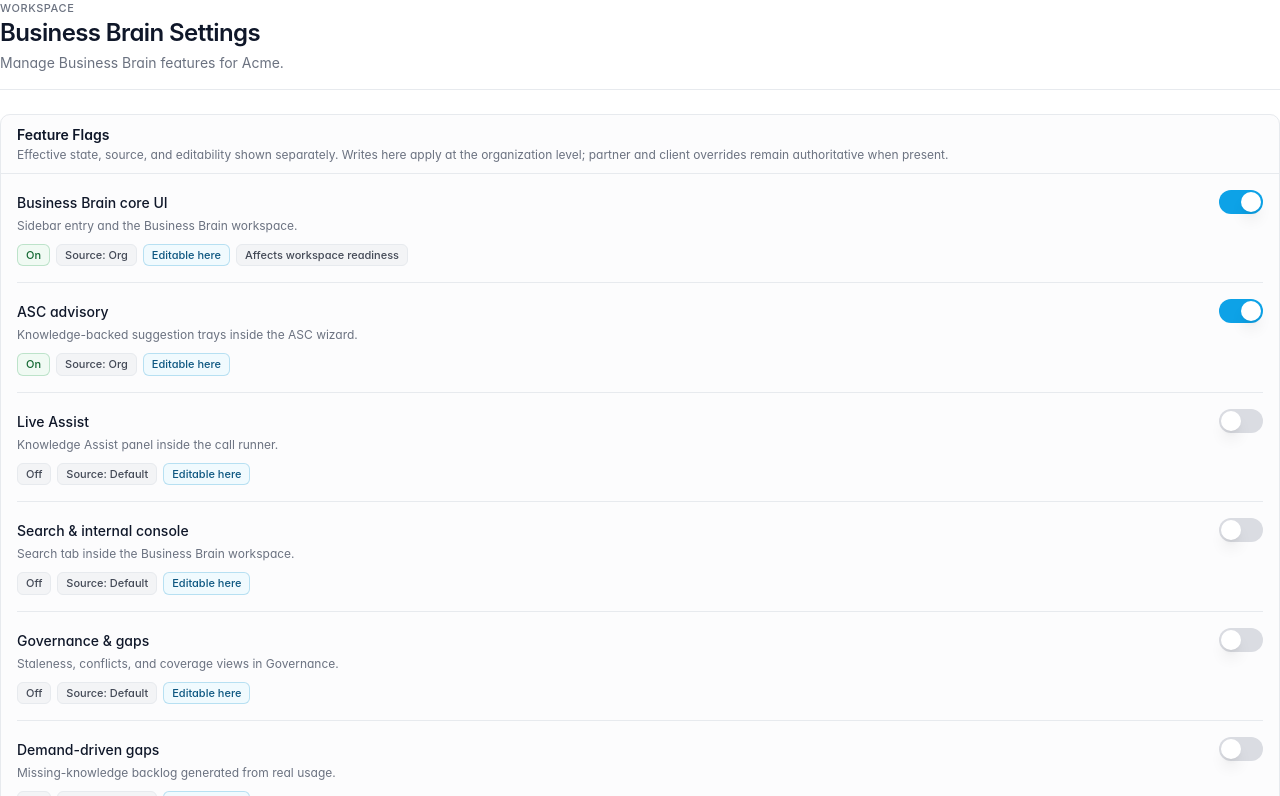
it: bbSettingsUi › opens a confirm dialog when disabling ASC while facts exist
The width and height of the screenshot is (1280, 796).
Later steps or results of the test are not shown.
Expected: the text "ASC advisory" is shown, [17,303,109,320]
Expected: the switch named "Toggle Business Brain core UI" is shown, [1219,190,1263,214]
Click the switch named "Toggle ASC advisory": {"x": 1241, "y": 311} [1219,299,1263,323]
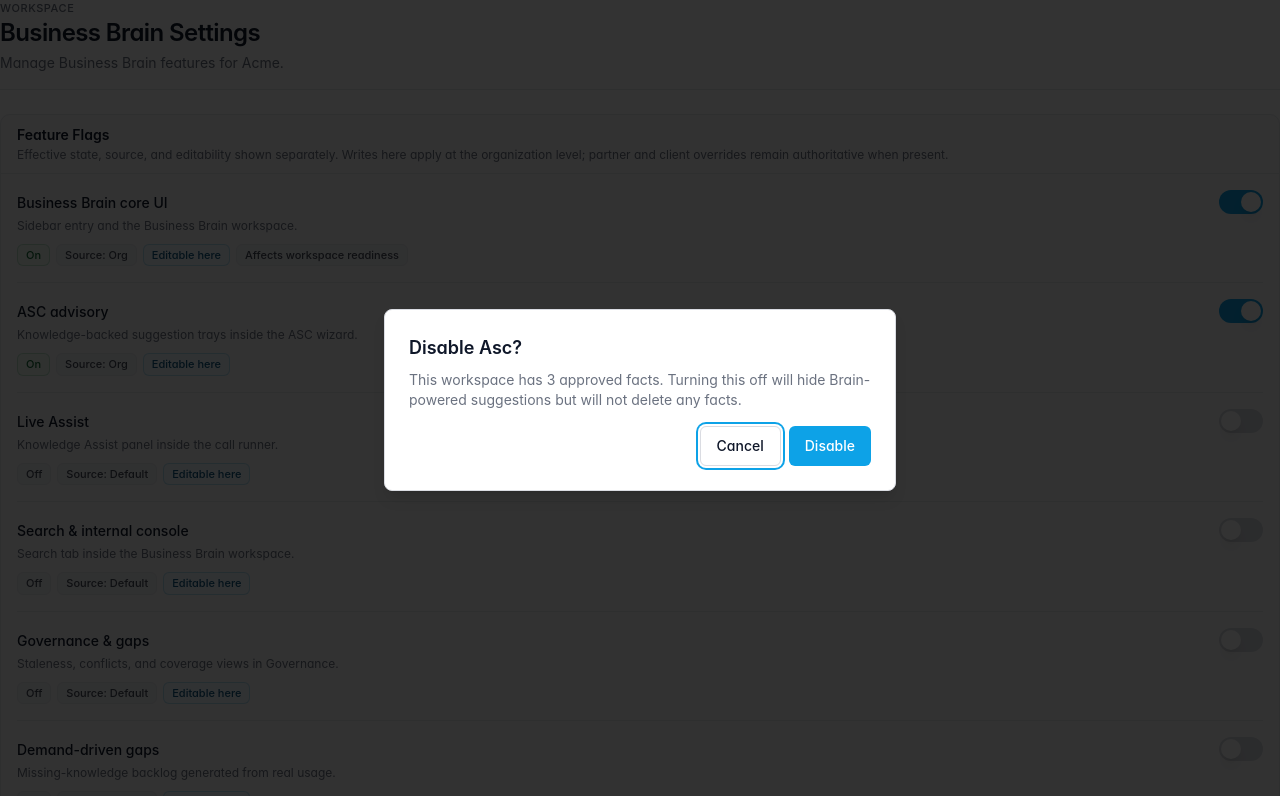
Expected: the heading "Disable asc?" is shown, [409,337,522,358]
Expected: the text "approved facts" is shown, [409,371,870,408]
